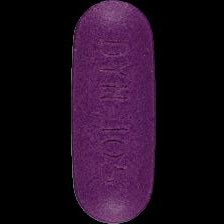99207-467: (0, 0, 224, 224)
